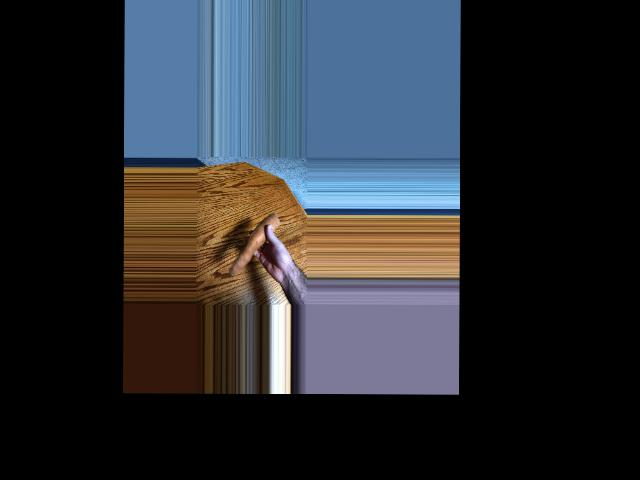sweet_potato: (231, 218, 280, 275)
